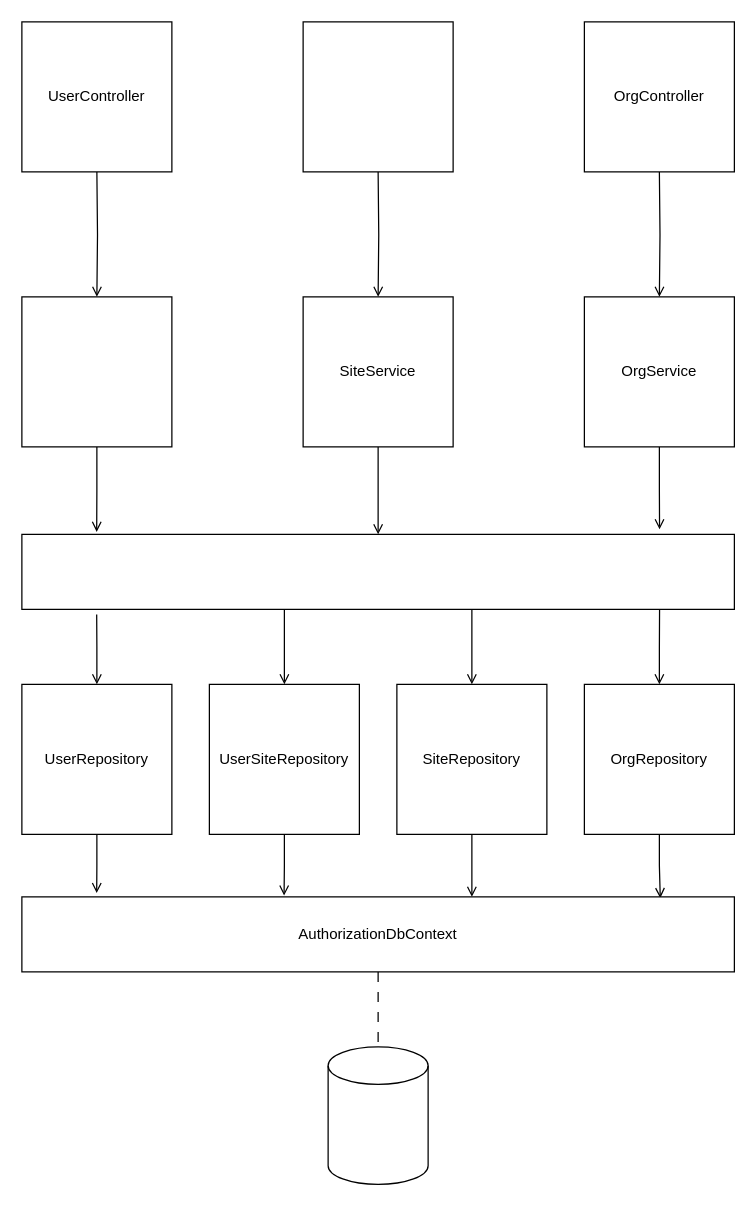
Image size: 756x1206. Some labels were removed from this diagram. The shapes that lost their labels are listed below. From the top down, each one's box as (x1, y1, x2, y2) in pixels, then its label:
(302, 21, 453, 172): SiteController
(21, 296, 172, 447): UserService
(21, 533, 734, 609): UnitOfWork
(327, 1046, 428, 1184): Database
